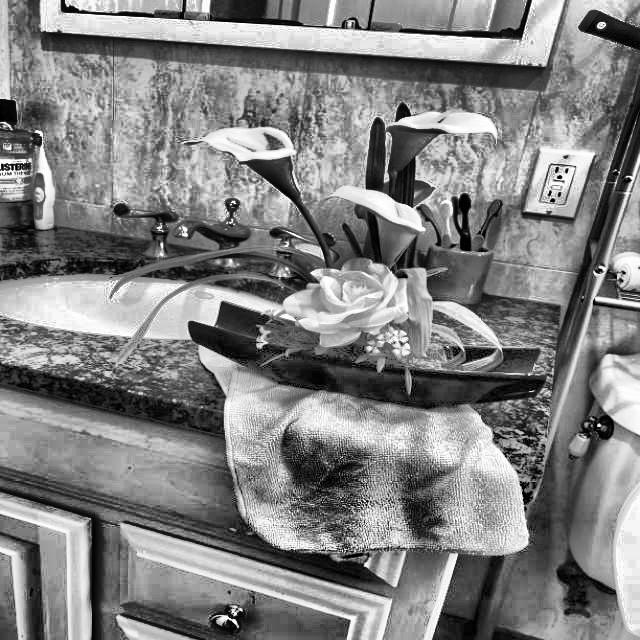plants: (186, 90, 528, 409)
